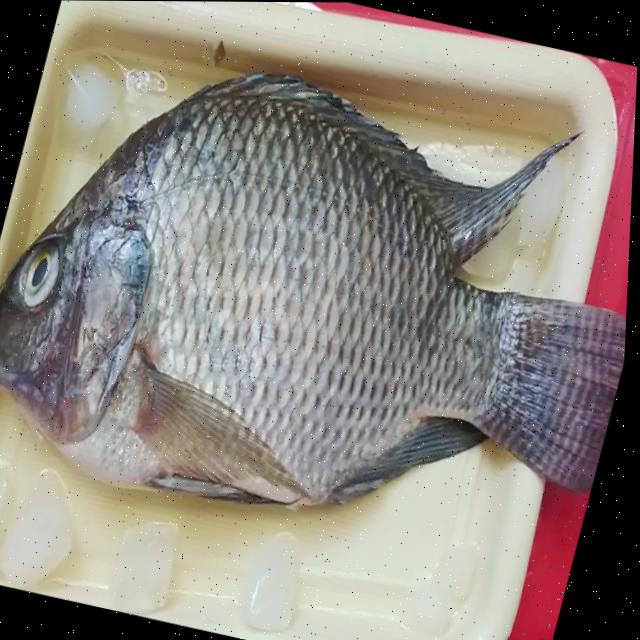Fresh: (32, 65, 464, 537), (6, 214, 84, 328)
